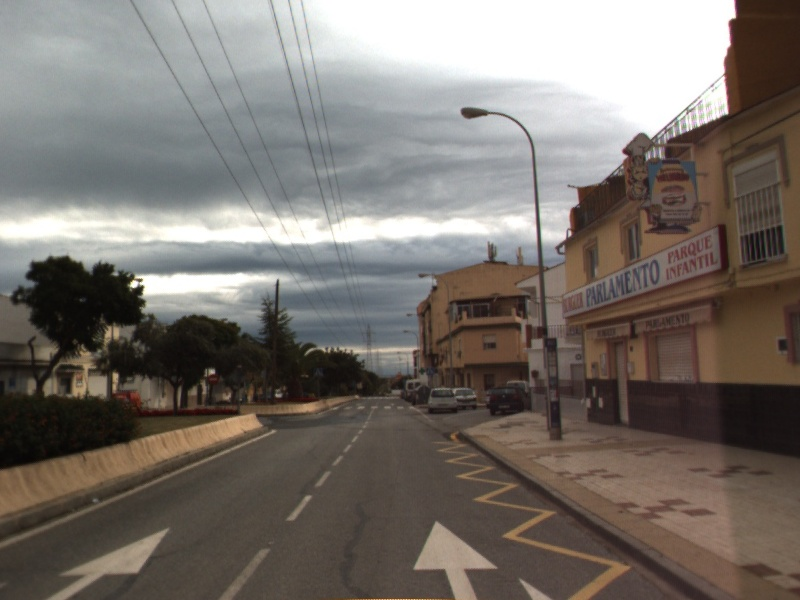STRAIGHT: (38, 524, 173, 600), (410, 518, 501, 600)
